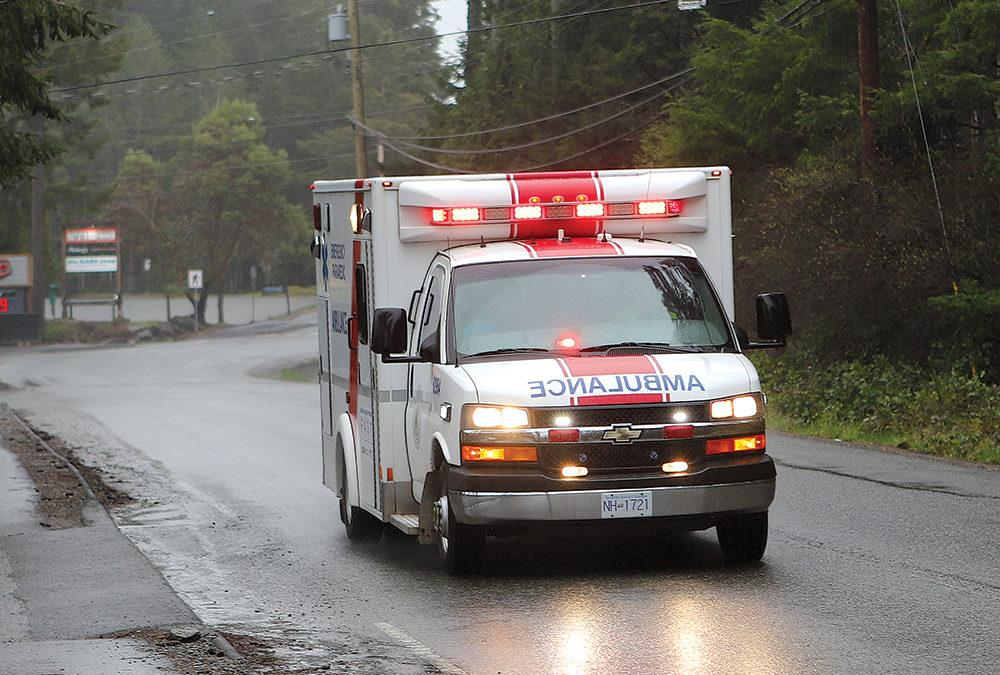ambulance_on: (313, 165, 779, 571)
